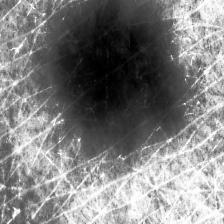Benign Marking or Mole: (46, 0, 191, 153)
